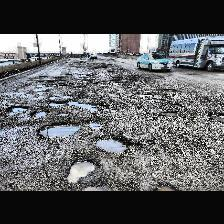pothole: (37, 120, 83, 138), (66, 158, 96, 182), (93, 135, 129, 153), (153, 180, 178, 190), (66, 99, 96, 107), (208, 110, 224, 122), (10, 104, 30, 112), (32, 108, 48, 116), (48, 100, 64, 106), (160, 110, 178, 114), (48, 94, 57, 98)
